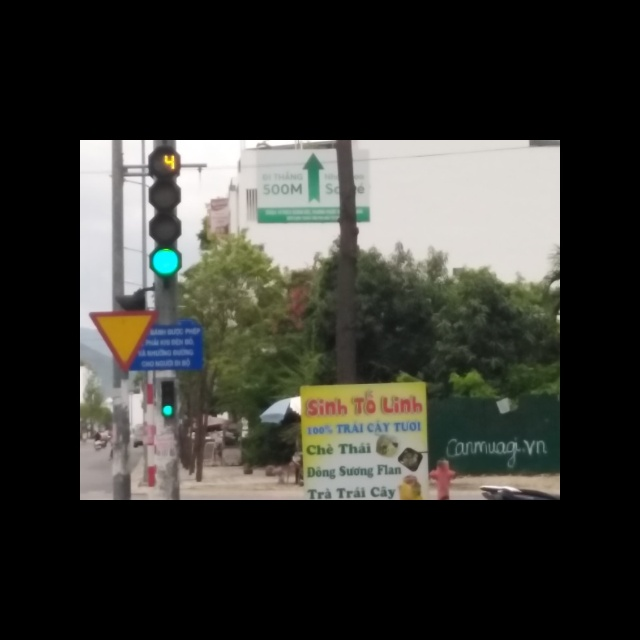Giao nhau với đường ưu tiên: (87, 310, 161, 372)
Đèn xanh: (150, 248, 180, 276)
